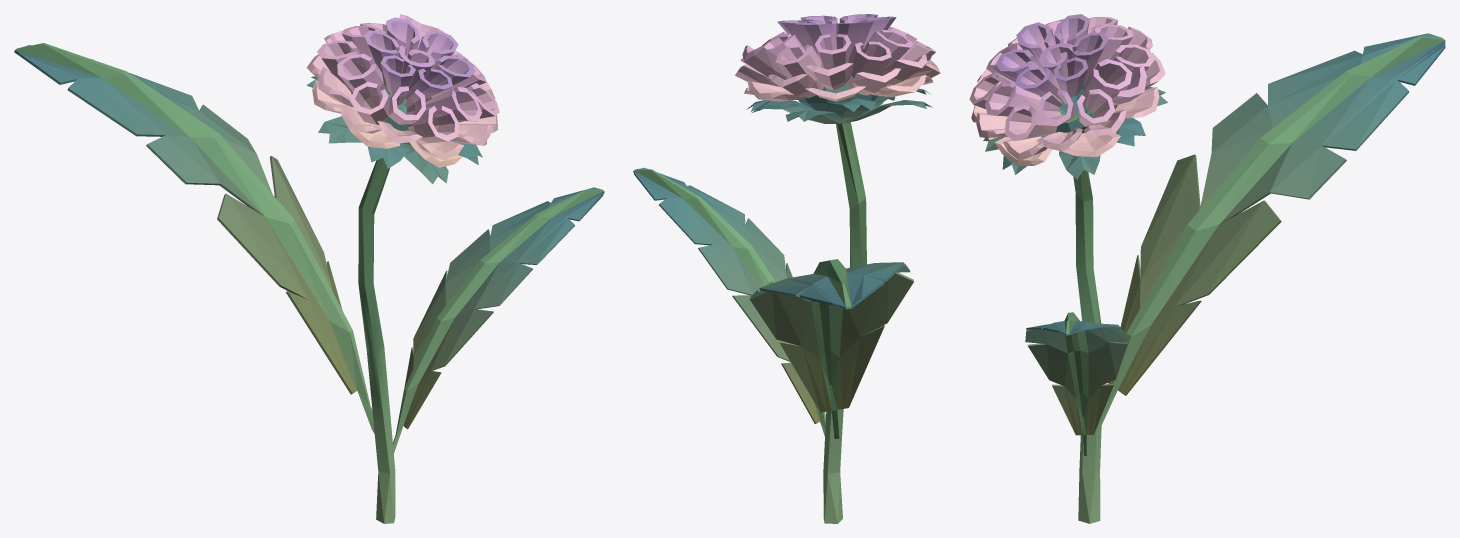
The model's file is Dahlia_Type02_Lilac.fbx.
3 views of the same model, side by side, from view 1: azimuth 30°, elevation 25°; view 2: azimuth 150°, elevation 25°; view 3: azimuth 270°, elevation 25° (orthographic).
Parts seen in each view (by area): view 1: Dahlia_Type02_Lilac; view 2: Dahlia_Type02_Lilac; view 3: Dahlia_Type02_Lilac.
Boxes of the visible parts, x1,y1,x2,y2 form: Dahlia_Type02_Lilac: (14, 14, 604, 523); Dahlia_Type02_Lilac: (633, 14, 940, 523); Dahlia_Type02_Lilac: (969, 14, 1445, 523).
Size of the model in its own units: 35.05 by 40.83 by 35.76.
